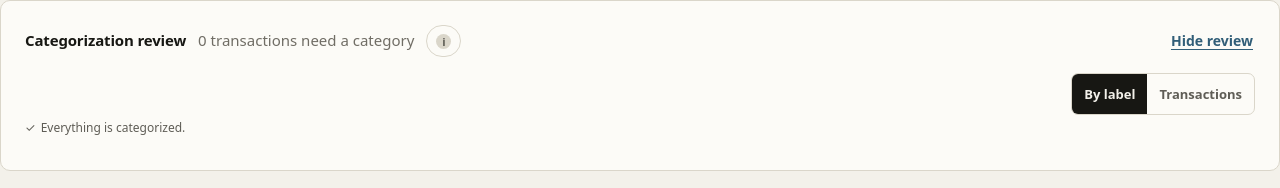
Scenario: categorization review guidance › hides the label-grouping explanation behind a hover tip
Check: the text "Labels combine" is not shown
Hover over the element showing "i".
mouse_move(444, 41)  # box [426,25,461,57]
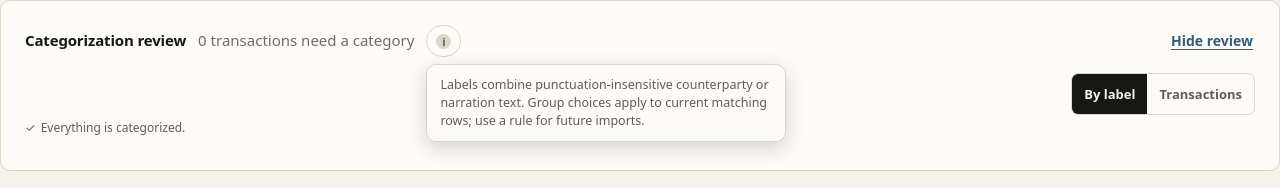
Check: the text "Labels combine" is shown, box [440,76,769,129]
